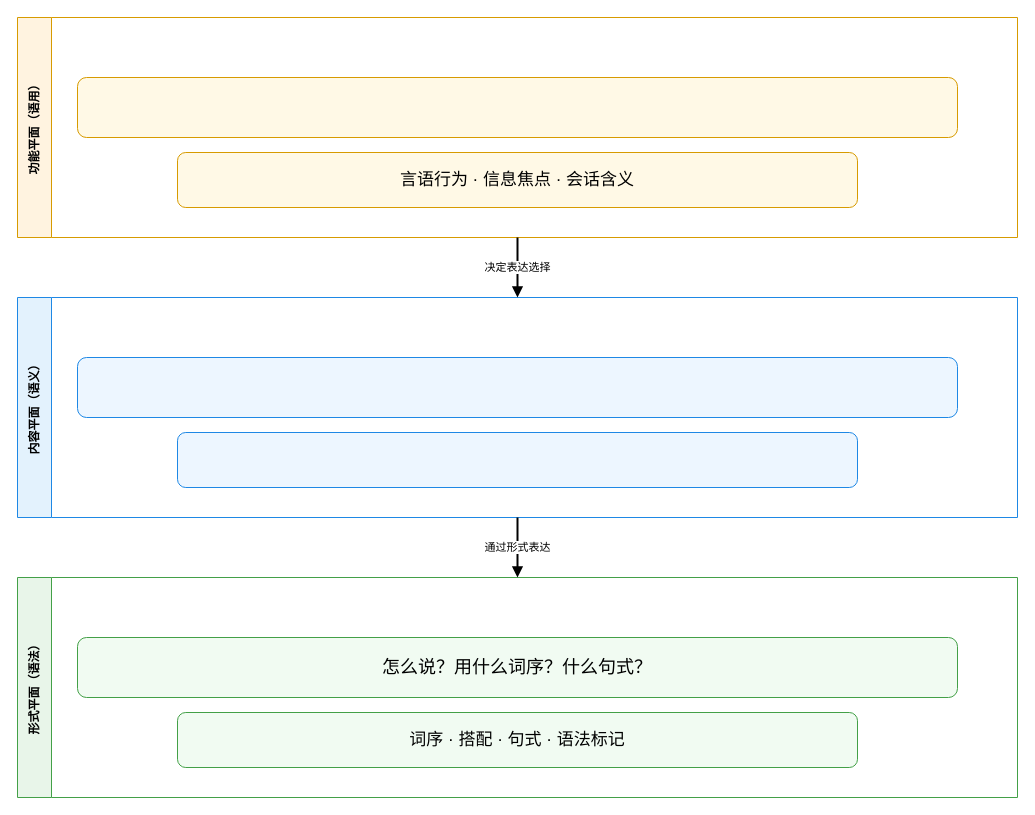
The diagram is 1035 pixels wide and 815 high, and some of its shapes have lost their labels. Here are the shapes that lost their labels. From the top down, the box of each, then its label:
(76, 76, 958, 138): 为什么说？说给谁？要达成什么？
(76, 356, 958, 418): 说什么？表达什么意义？什么命题？
(176, 432, 858, 488): 概念 · 命题 · 事件结构 · 语义关系
